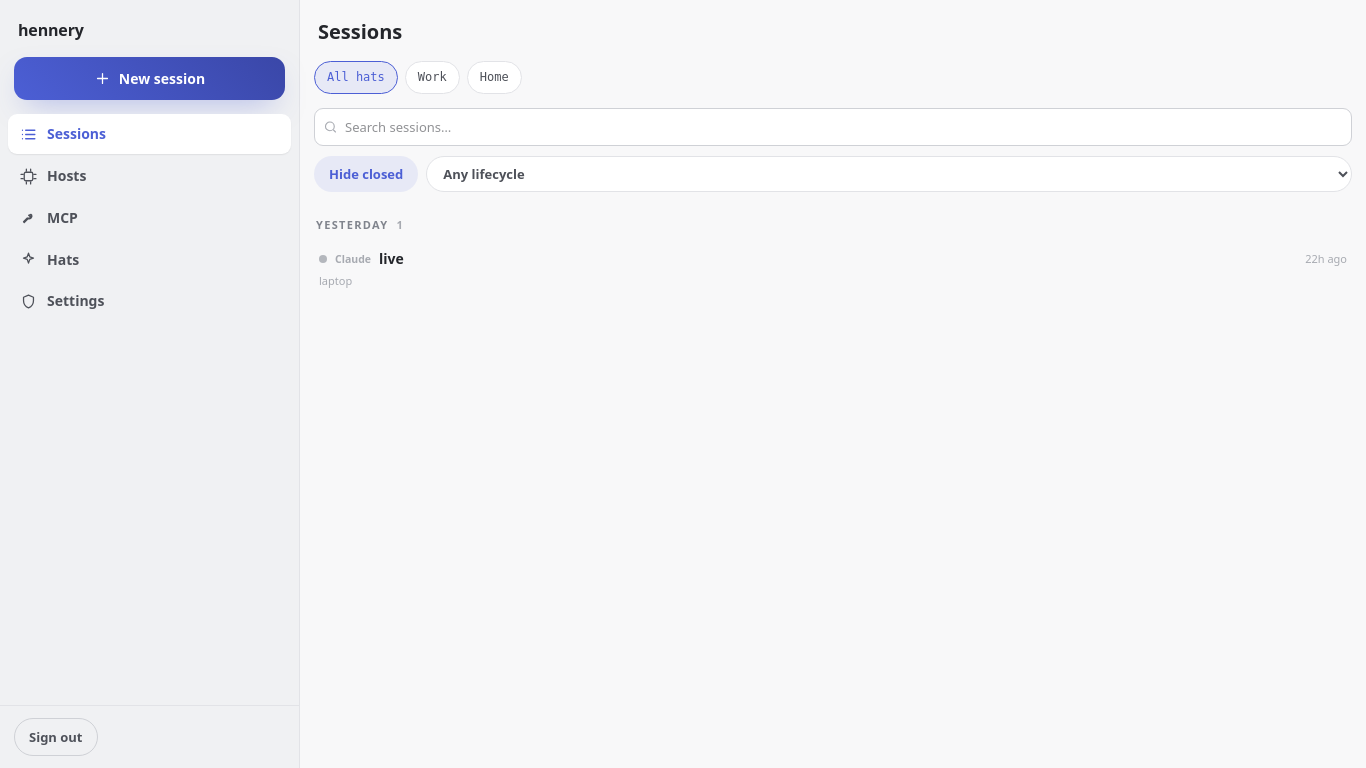
Test: filters › a lifecycle filter shows that lifecycle only
Select "Closed" in the dropdown named "Lifecycle". click: (889,174)
box: left=426, top=156, right=1352, bottom=192
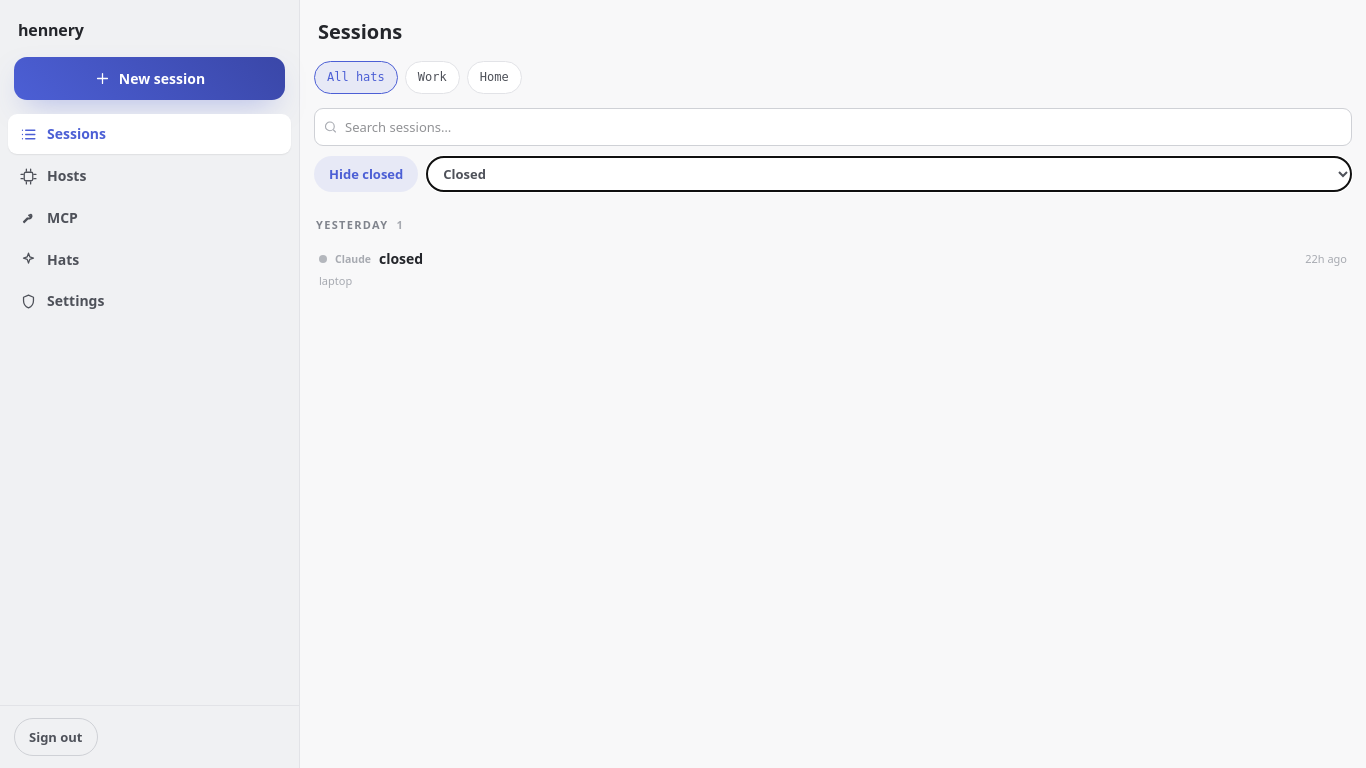
Check: the text "closed" is shown, box left=379, top=249, right=423, bottom=268
